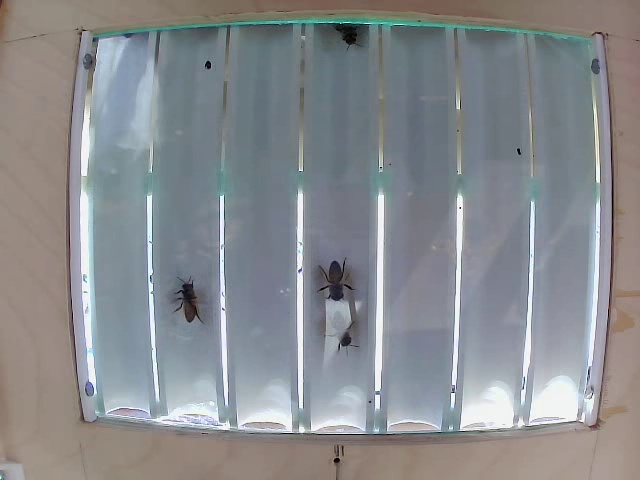bee: (313, 258, 349, 300), (175, 283, 206, 331)
